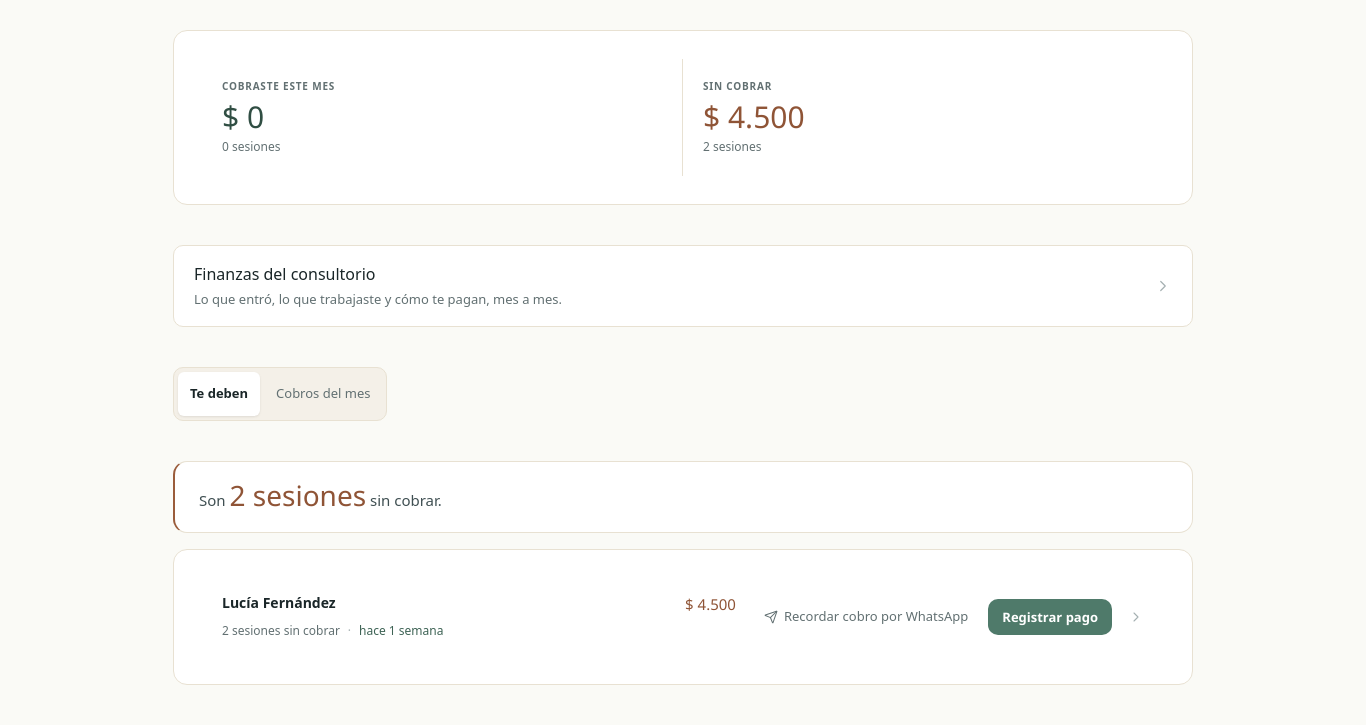
Te deben: el aviso de cobro por WhatsApp › con WhatsApp, ningún texto dice SMS, abre WhatsApp con la plantilla y la fila queda Avisada
(page scrolled)
Click the button "Recordar cobro por WhatsApp".
click(866, 617)  # box [752,599,980,635]
(page scrolled)
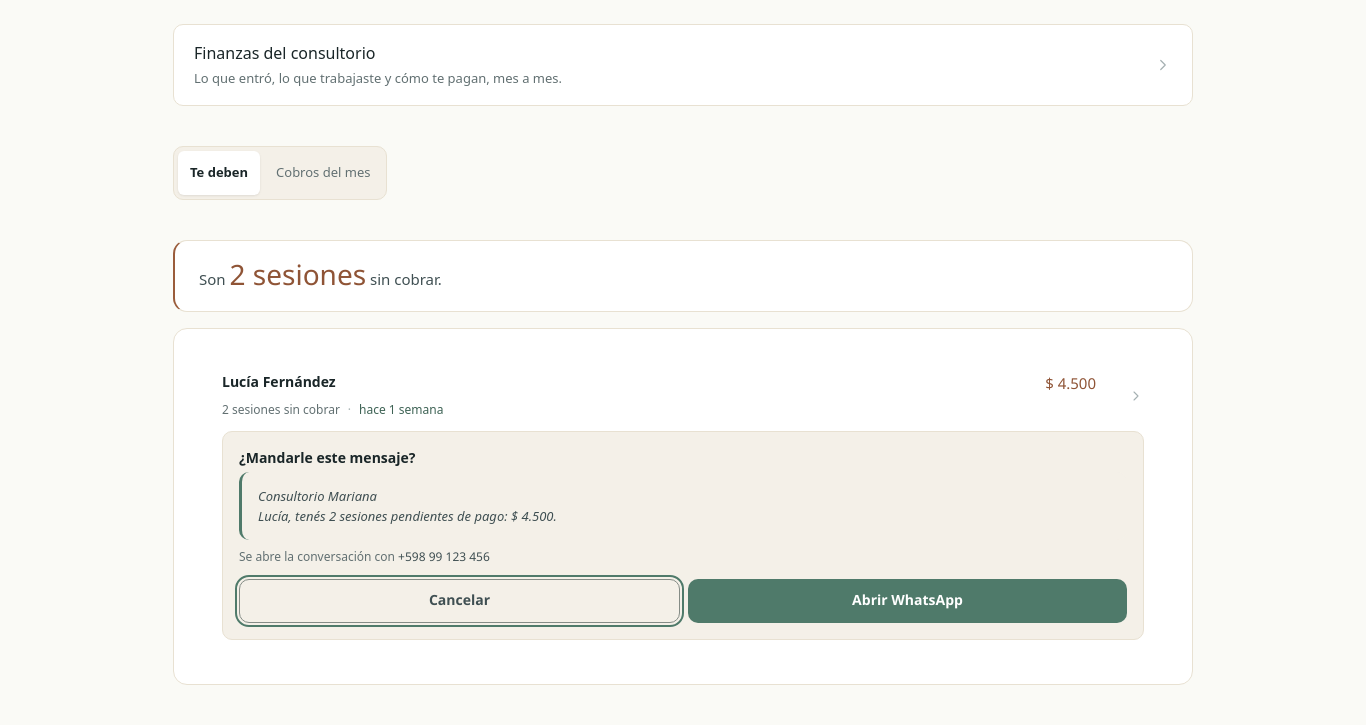
Click the button "Abrir WhatsApp".
click(908, 601)  # box [688,579,1127,623]
(page scrolled)
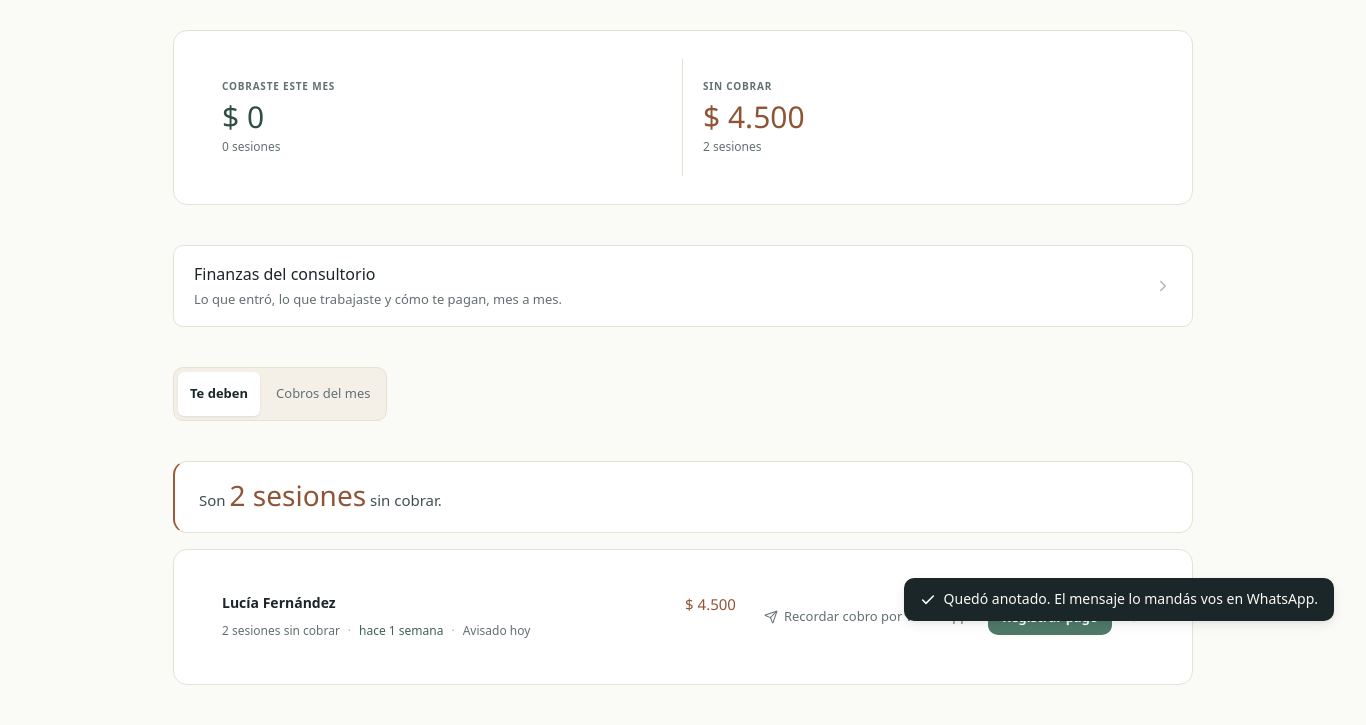
Expected: the text "Avisado hoy" is shown, [463,622,530,640]
